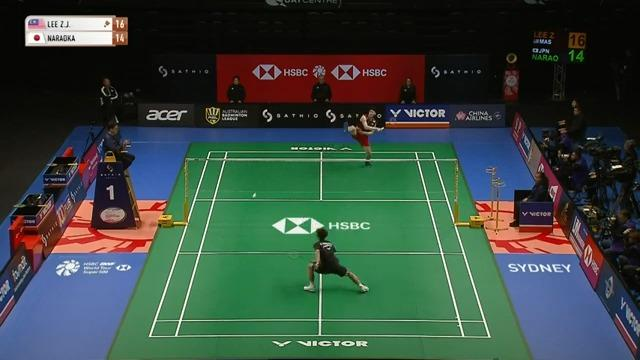Shuttlecock: (250, 190, 260, 201)
